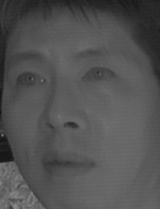eye: (78, 64, 117, 87), (11, 68, 50, 90)
mouth: (41, 146, 97, 179)
